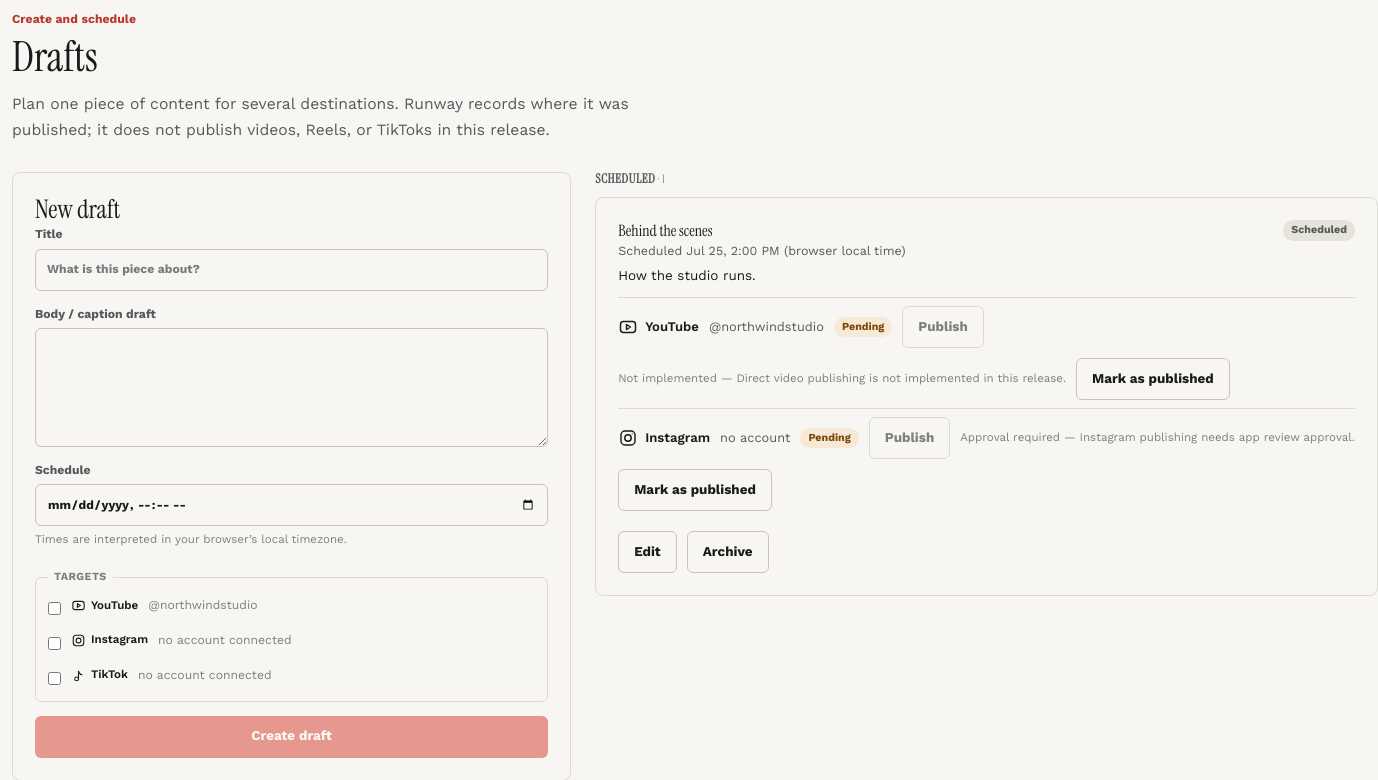
Test: DraftsWorkspace › archives after a two-step confirm
Click the button "Archive" at (728, 552), box top-left (687, 531), bottom-right (769, 573)
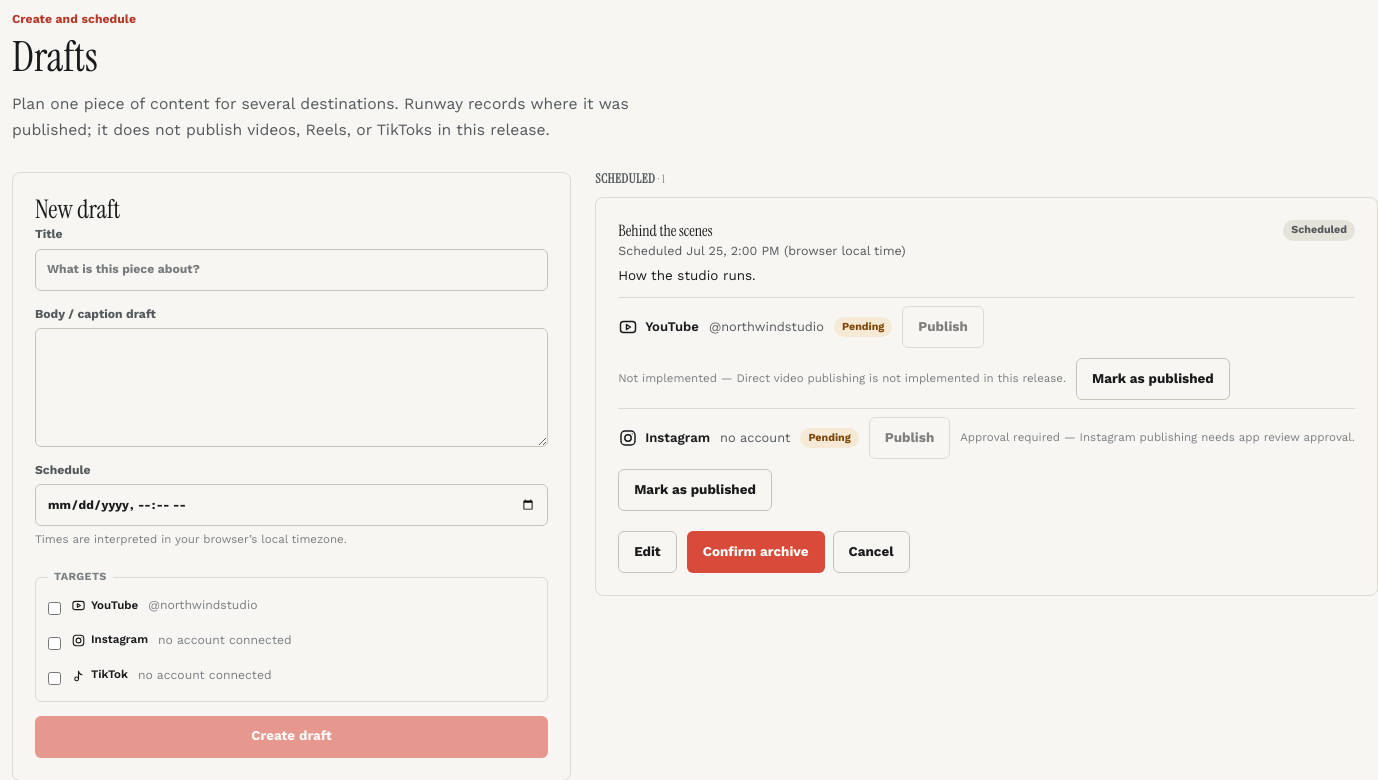
Click the button "Confirm archive" at (756, 552), box top-left (687, 531), bottom-right (825, 573)
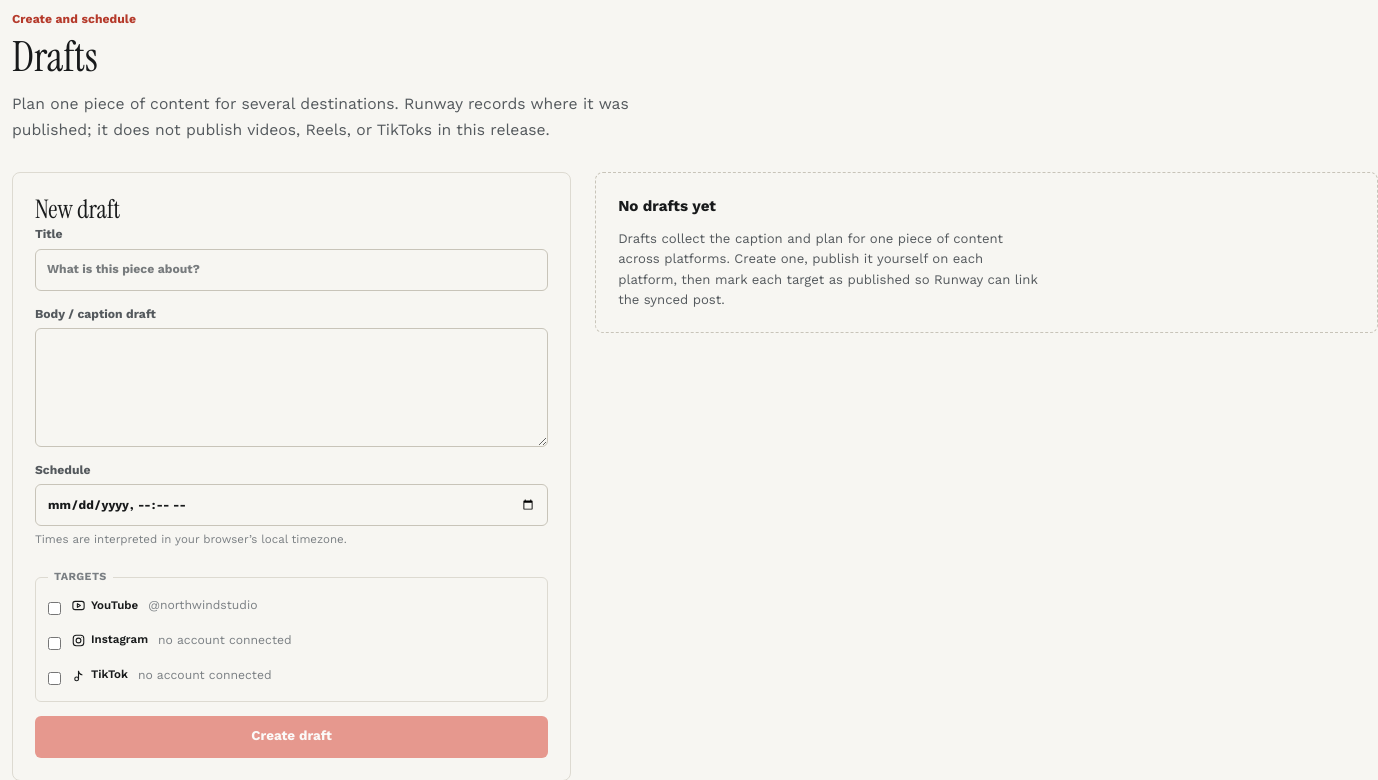
Check: the heading "Behind the scenes" is gone
